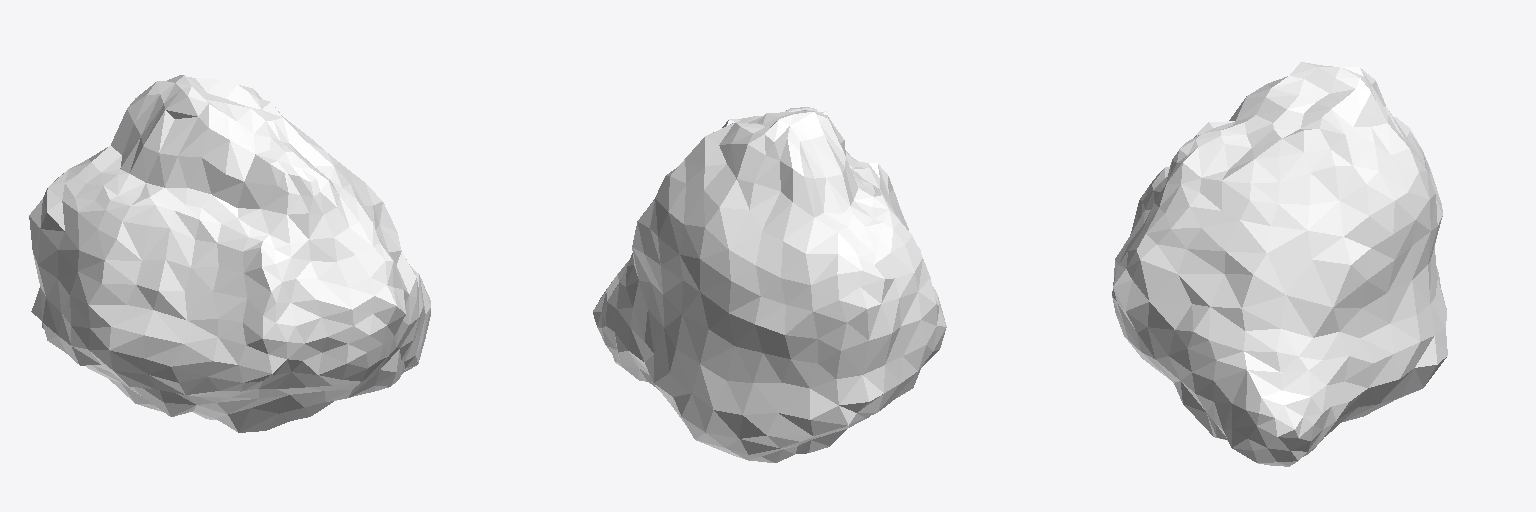
File: rock_pile.obj
The picture shows the model from 3 angles: view 1: azimuth 30°, elevation 25°; view 2: azimuth 150°, elevation 25°; view 3: azimuth 270°, elevation 25°; orthographic projection.
Parts seen in each view (by area): view 1: Rock01-lib; view 2: Rock01-lib; view 3: Rock01-lib.
Boxes of the visible parts, <box> form: Rock01-lib: <box>29,75,430,432</box>; Rock01-lib: <box>593,107,946,462</box>; Rock01-lib: <box>1112,62,1447,466</box>.
Bounding box in the file's own units: 59.28 × 55.72 × 50.23.